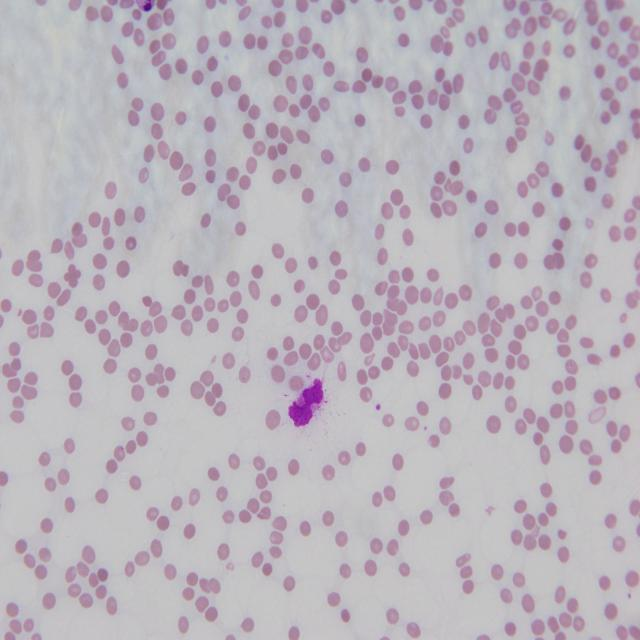cell: (289, 379, 324, 427)
